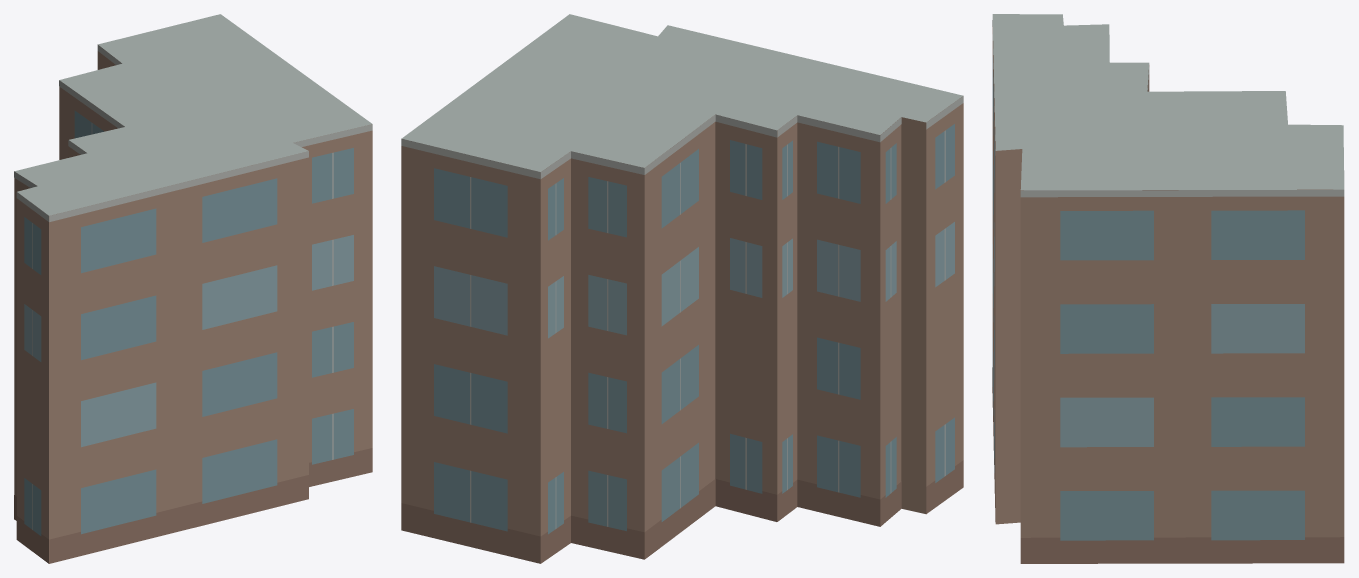
File: survey-upis-32781919.glb
3 views of the same model, side by side, from view 1: azimuth 30°, elevation 25°; view 2: azimuth 150°, elevation 25°; view 3: azimuth 270°, elevation 25° (orthographic). The views are drawn at different scales.
Visible parts, largest first — view 1: survey-upis-32781919.tmp; view 2: survey-upis-32781919.tmp; view 3: survey-upis-32781919.tmp.
Boxes of the visible parts, x1,y1,x2,y2 form: survey-upis-32781919.tmp: (14, 14, 372, 563); survey-upis-32781919.tmp: (401, 14, 963, 563); survey-upis-32781919.tmp: (992, 14, 1344, 563).
Bounding box in the file's own units: 13.48 × 13.3 × 11.37.
